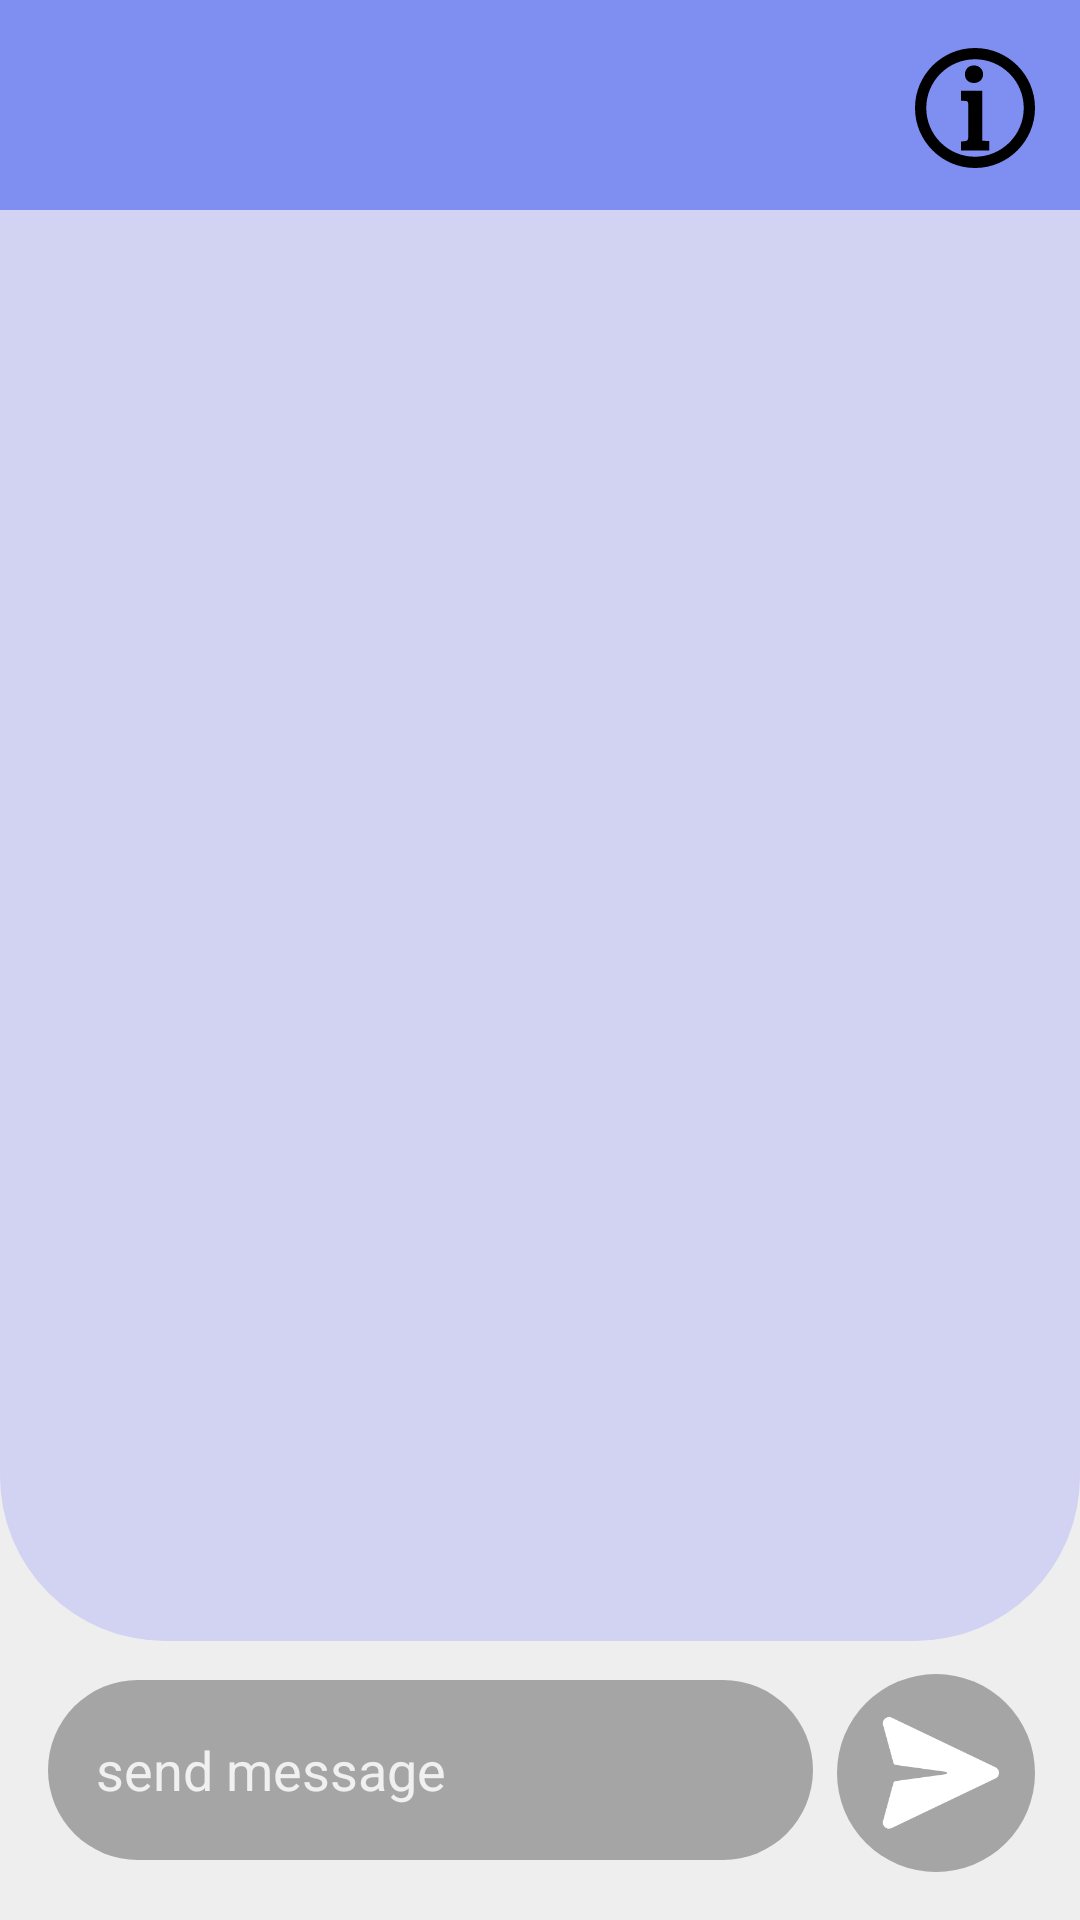

Icon bounding boxes for this 1080 × 1920 phone screenshot, format (x1, y1, x2, y2):
info: (915, 48, 1035, 168)
